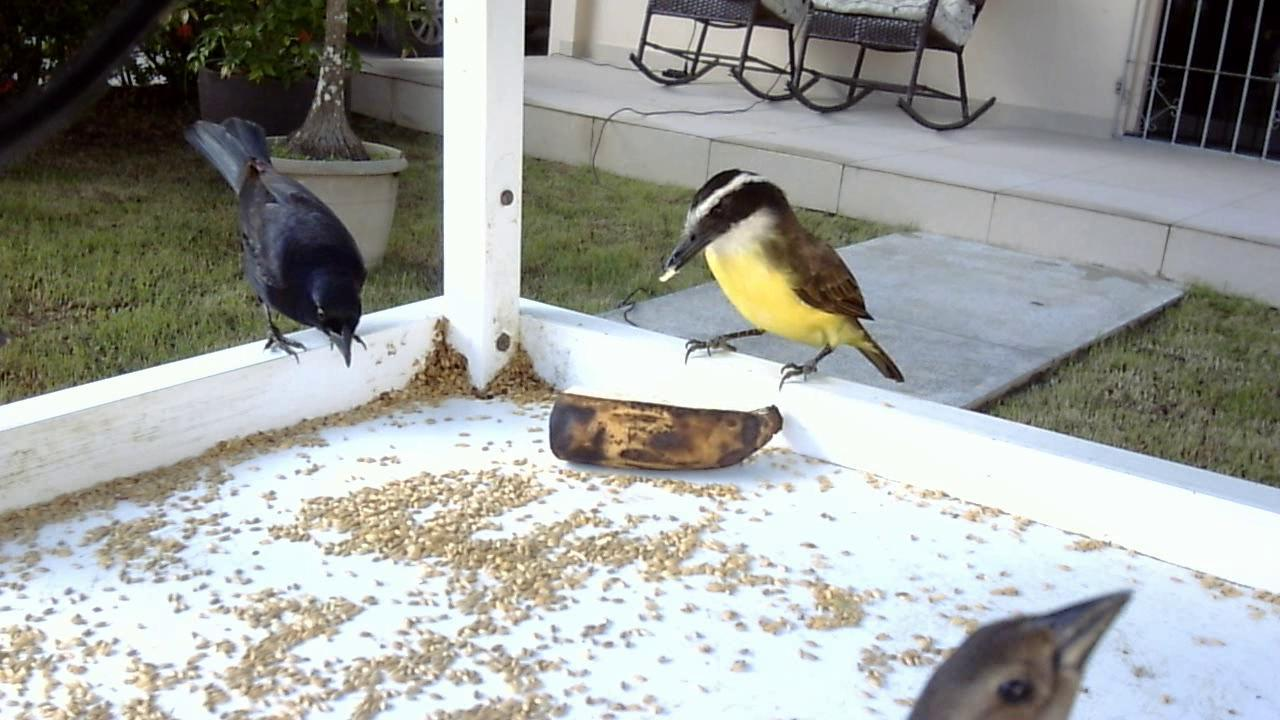bem_te_vi: (643, 155, 912, 414)
chupim: (178, 113, 372, 374), (890, 584, 1144, 713)
